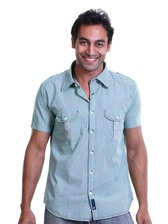clothoes: (24, 59, 146, 218)
